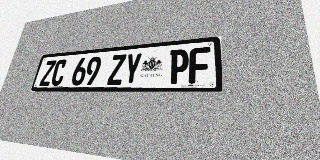6: (70, 57, 89, 85)
9: (83, 56, 102, 85)
C: (50, 59, 68, 86)
F: (188, 47, 210, 84)
P: (168, 49, 189, 84)
Y: (122, 53, 142, 85)
Z: (107, 54, 126, 85), (39, 60, 57, 86)
